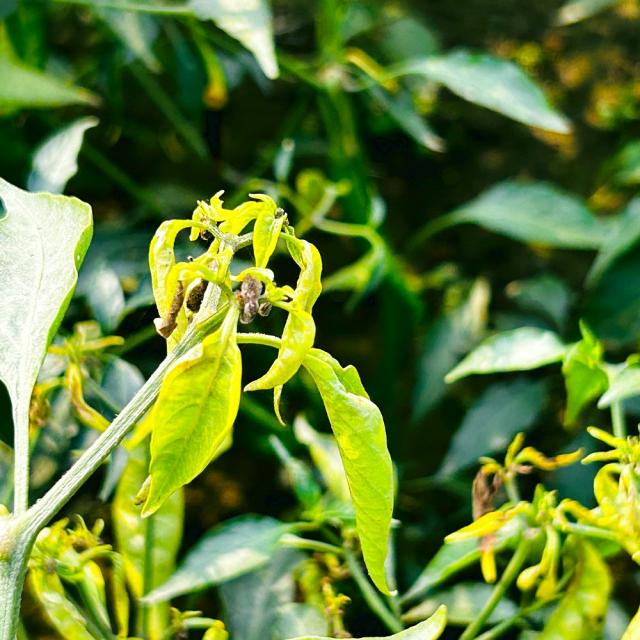Chilli_Leaf_Curl: (1, 1, 638, 638), (133, 188, 398, 598), (146, 188, 324, 424), (0, 176, 94, 516), (133, 289, 243, 519), (301, 346, 398, 596), (241, 230, 323, 426)
